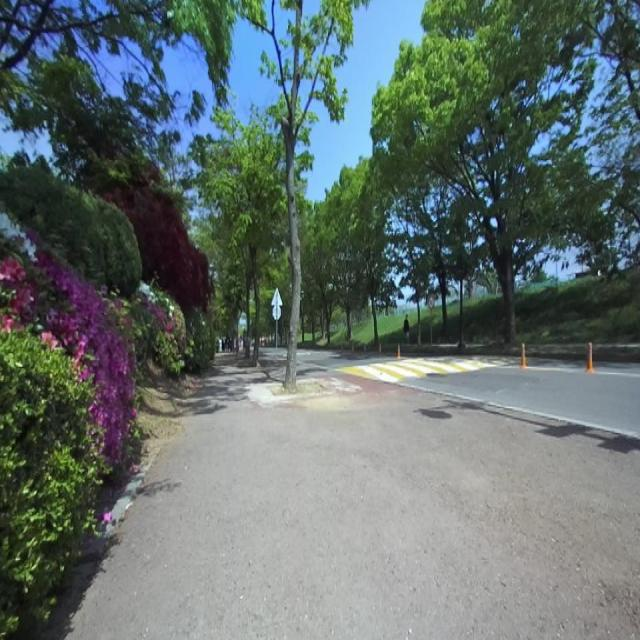sidewalk: (68, 357, 640, 638), (260, 357, 284, 381), (296, 364, 336, 378)
